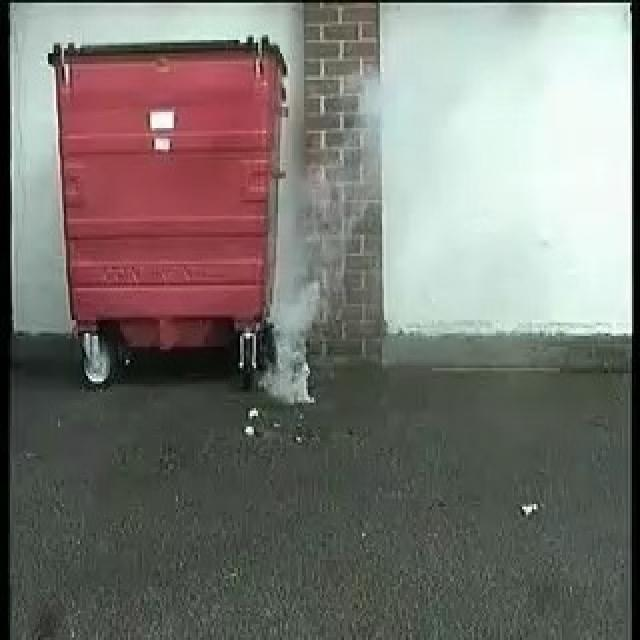smoke: (264, 157, 353, 405)
